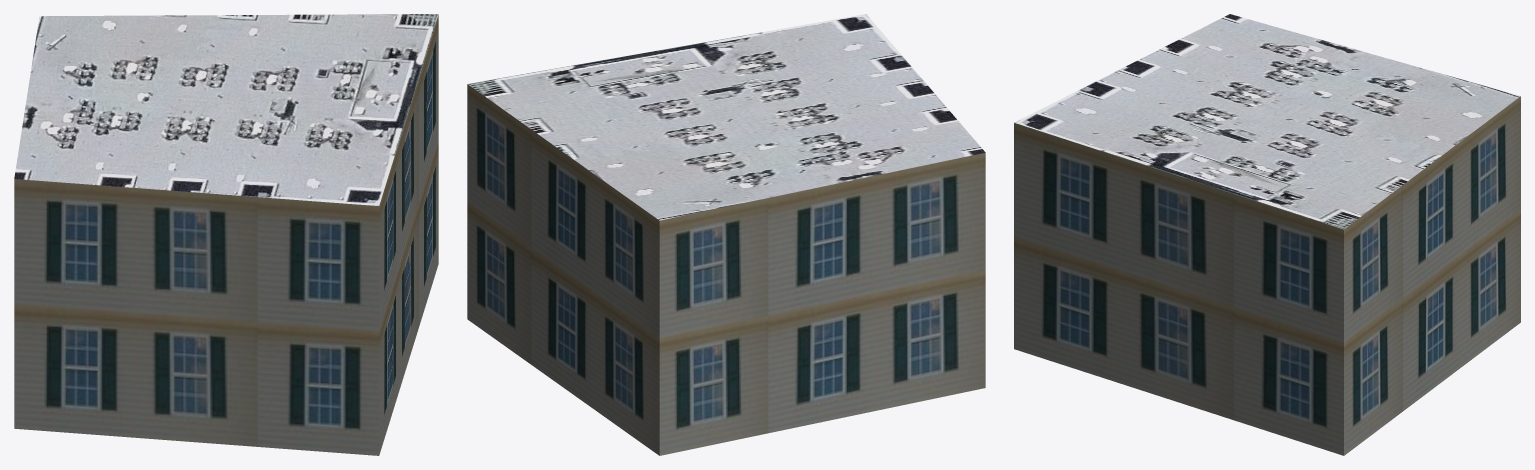
Rendered from ResTex__423.fbx.
The picture shows the model from 3 angles, left to right: view 1: azimuth 30°, elevation 25°; view 2: azimuth 150°, elevation 25°; view 3: azimuth 270°, elevation 25°; orthographic projection. The views are drawn at different scales.
Parts seen in each view (by area): view 1: CityEngineMaterial_7_m, CityEngineMaterial_m; view 2: CityEngineMaterial_7_m, CityEngineMaterial_m; view 3: CityEngineMaterial_7_m, CityEngineMaterial_m.
Part boxes in pixels (x1,y1,x2,y2): CityEngineMaterial_7_m: (14, 15, 438, 455); CityEngineMaterial_m: (14, 14, 438, 205); CityEngineMaterial_7_m: (467, 84, 985, 455); CityEngineMaterial_m: (468, 14, 985, 220); CityEngineMaterial_7_m: (1014, 96, 1520, 455); CityEngineMaterial_m: (1014, 14, 1520, 229).
Bounding box in the file's own units: 12.25 × 6 × 12.17.
Materials: 2 (2 with a texture image).
